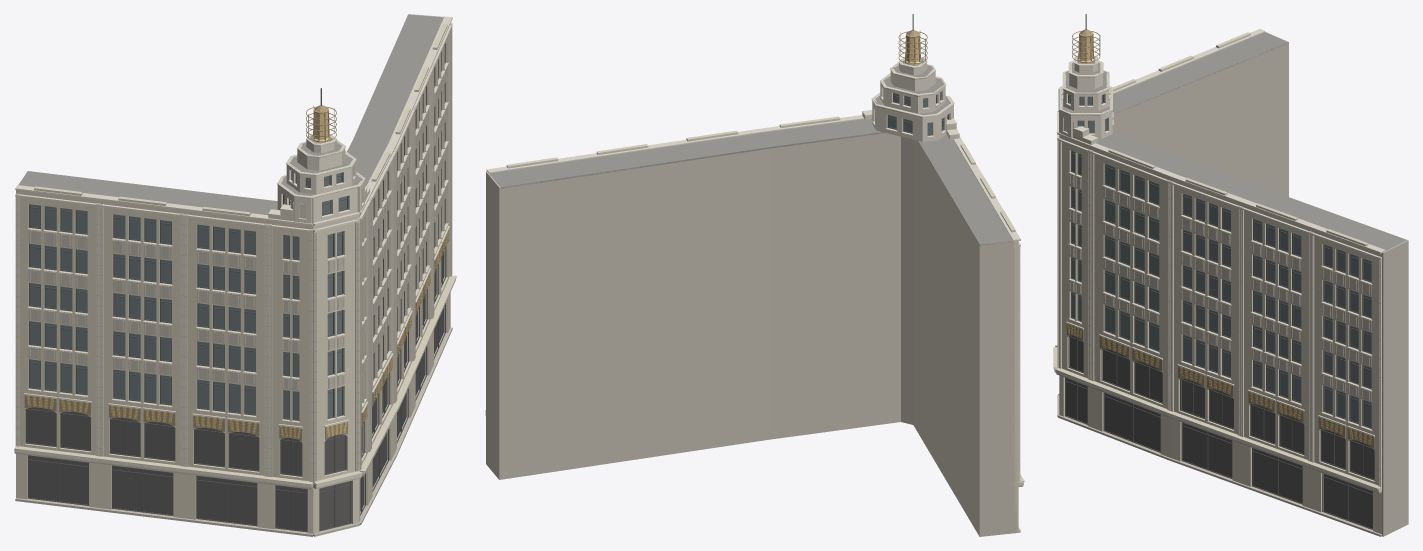
Rendered from huangpu-cishu-building-web.glb.
The picture shows the model from 3 angles, left to right: view 1: azimuth 30°, elevation 25°; view 2: azimuth 150°, elevation 25°; view 3: azimuth 270°, elevation 25°; orthographic projection. The views are drawn at different scales.
Parts seen in each view (by area): view 1: 慈淑大楼（东北街角及塔亭）; view 2: 慈淑大楼（东北街角及塔亭）; view 3: 慈淑大楼（东北街角及塔亭）.
Boxes of the visible parts, <box> form: 慈淑大楼（东北街角及塔亭）: <box>14,14,456,536</box>; 慈淑大楼（东北街角及塔亭）: <box>485,14,1024,536</box>; 慈淑大楼（东北街角及塔亭）: <box>1053,14,1408,536</box>.
Bounding box in the file's own units: 43.54 × 35.28 × 28.93.
